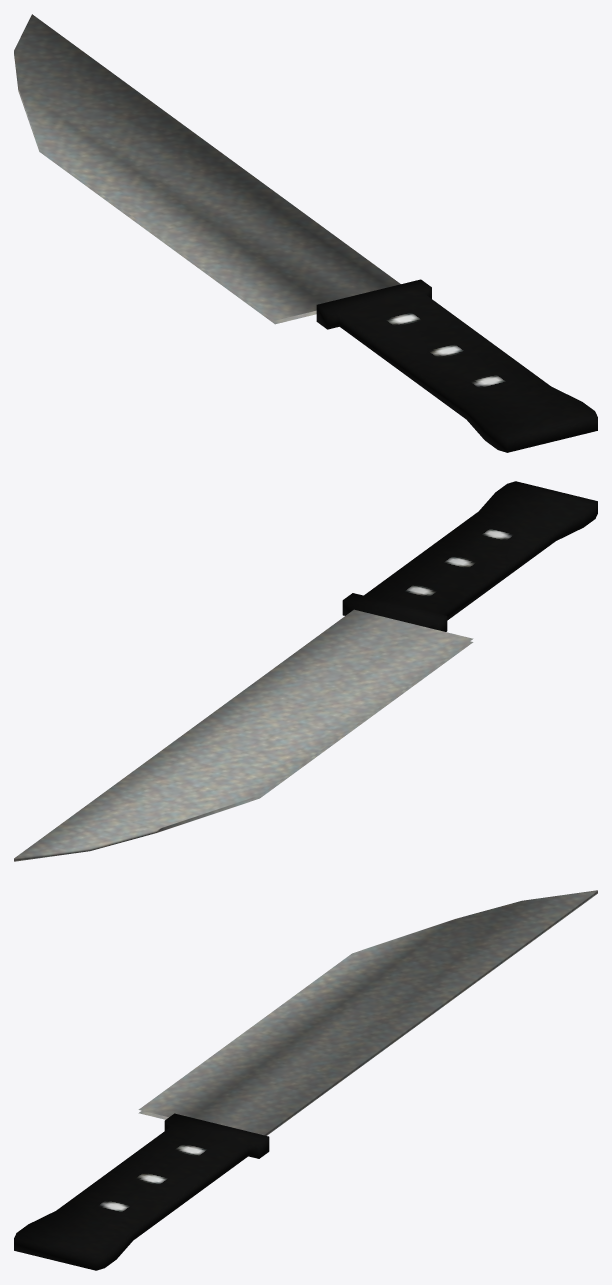
File: knife_001.obj
The picture shows the model from 3 angles, top to bottom: view 1: azimuth 30°, elevation 25°; view 2: azimuth 150°, elevation 25°; view 3: azimuth 330°, elevation 25°; orthographic projection. The views are drawn at different scales.
Visible parts, largest first — view 1: knife.001; view 2: knife.001; view 3: knife.001.
Part boxes in pixels (x1,y1,x2,y2): knife.001: (14,14,597,452); knife.001: (14,481,597,861); knife.001: (14,890,597,1270).
Bounding box in the file's own units: 0.0527 × 0.00582 × 0.3523.
